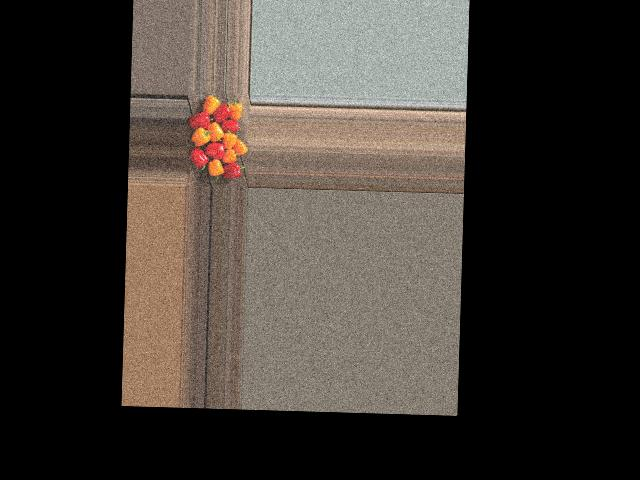bell_pepper: (198, 94, 220, 119)
